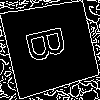B: (25, 22, 76, 65)
